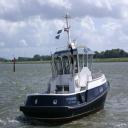tugboat: (19, 12, 112, 128)
